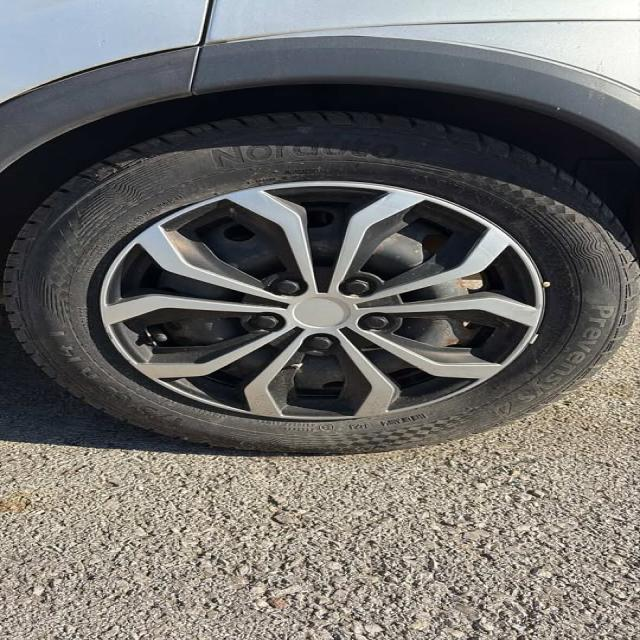jante: (100, 181, 547, 422)
parafuso: (272, 280, 300, 295), (344, 279, 370, 295), (365, 315, 389, 329), (311, 337, 332, 350), (256, 316, 278, 328)
roda: (2, 111, 640, 455)
